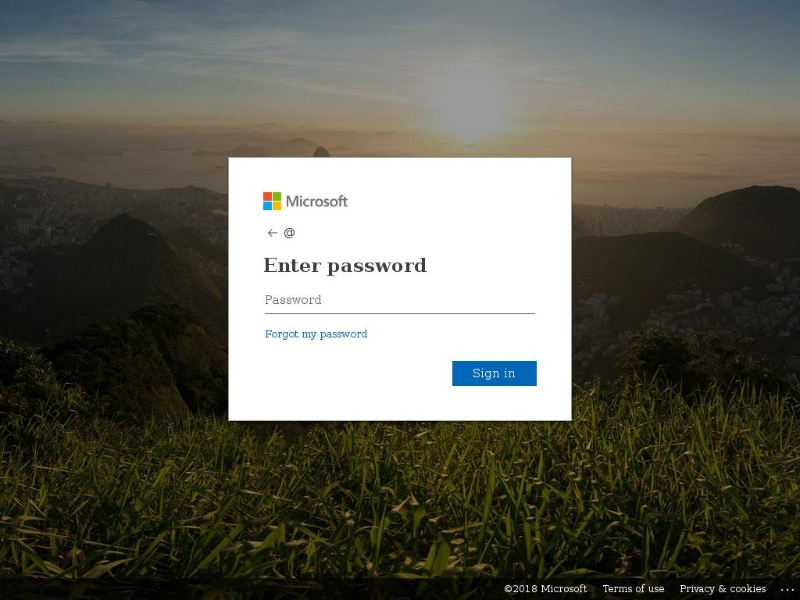msft: (250, 181, 368, 220)
